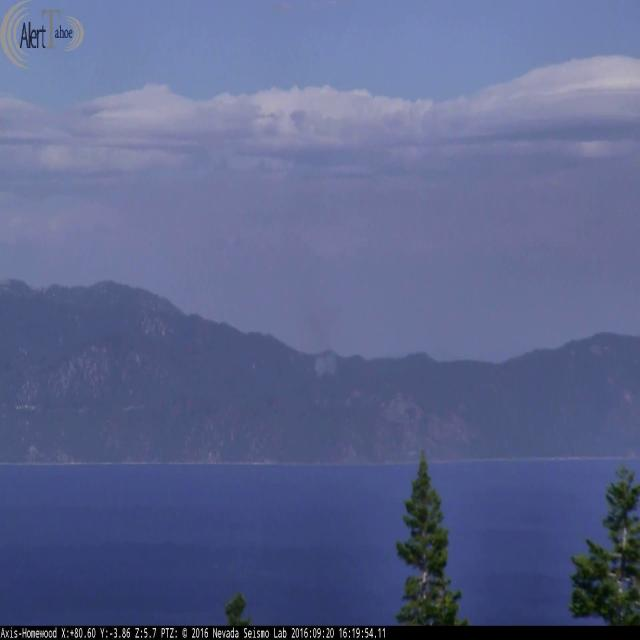smoke: (305, 347, 343, 378)
